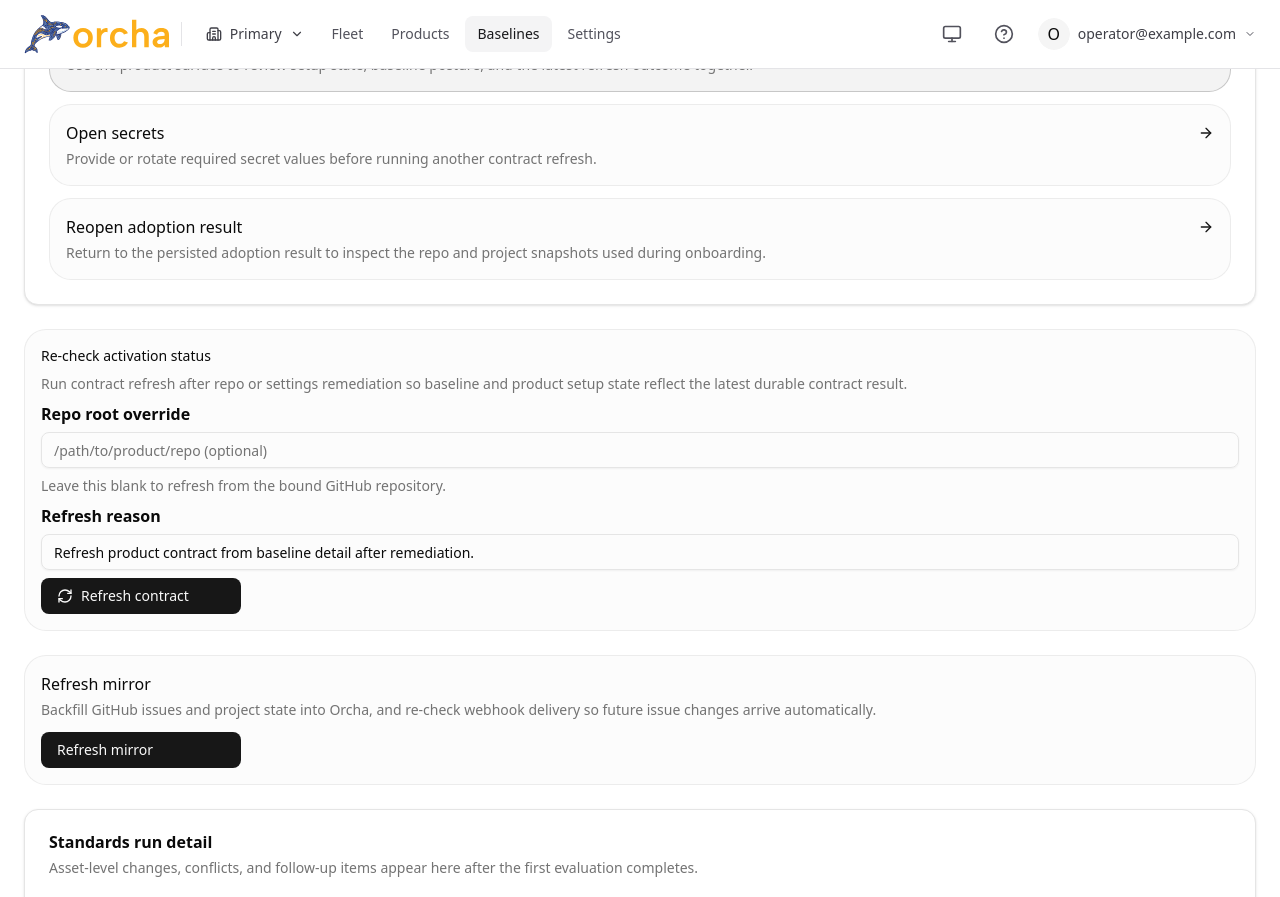
Test case: App › keeps setup blockers separate from managed asset drift on baseline detail and reflects refresh remediation
The image size is (1280, 897).
(page scrolled)
expect the text "Open product blockers" is shown: met, box x1=66 y1=28 x2=238 y2=50
expect the text "Open secrets" is shown: met, box x1=66 y1=122 x2=164 y2=144
Type "/tmp/atlas" into the field labelled "Repo root override" at (640, 450), box x1=41 y1=432 x2=1239 y2=468
(page scrolled)
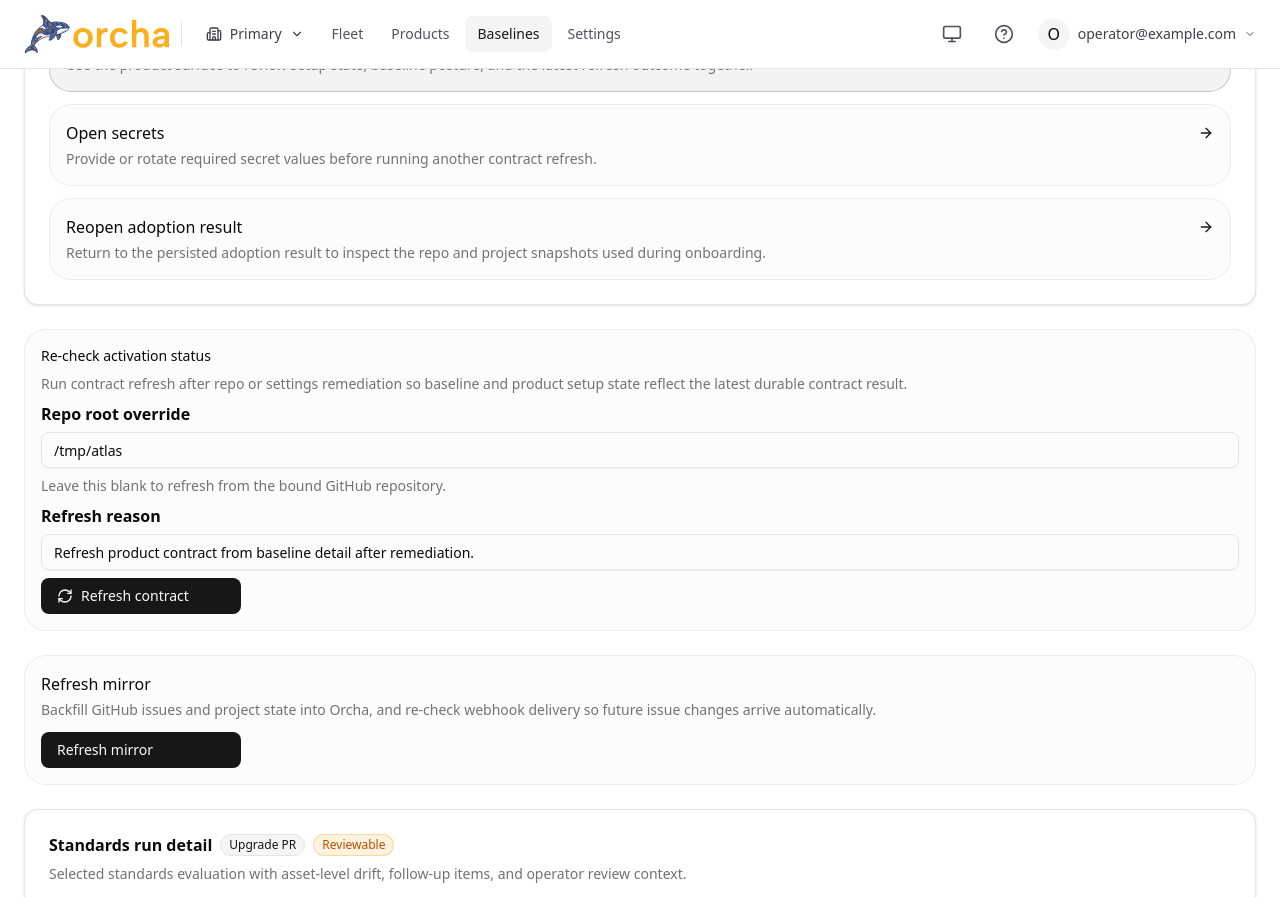
Click the button "Refresh contract" at (141, 596), box x1=41 y1=578 x2=241 y2=614
(page scrolled)
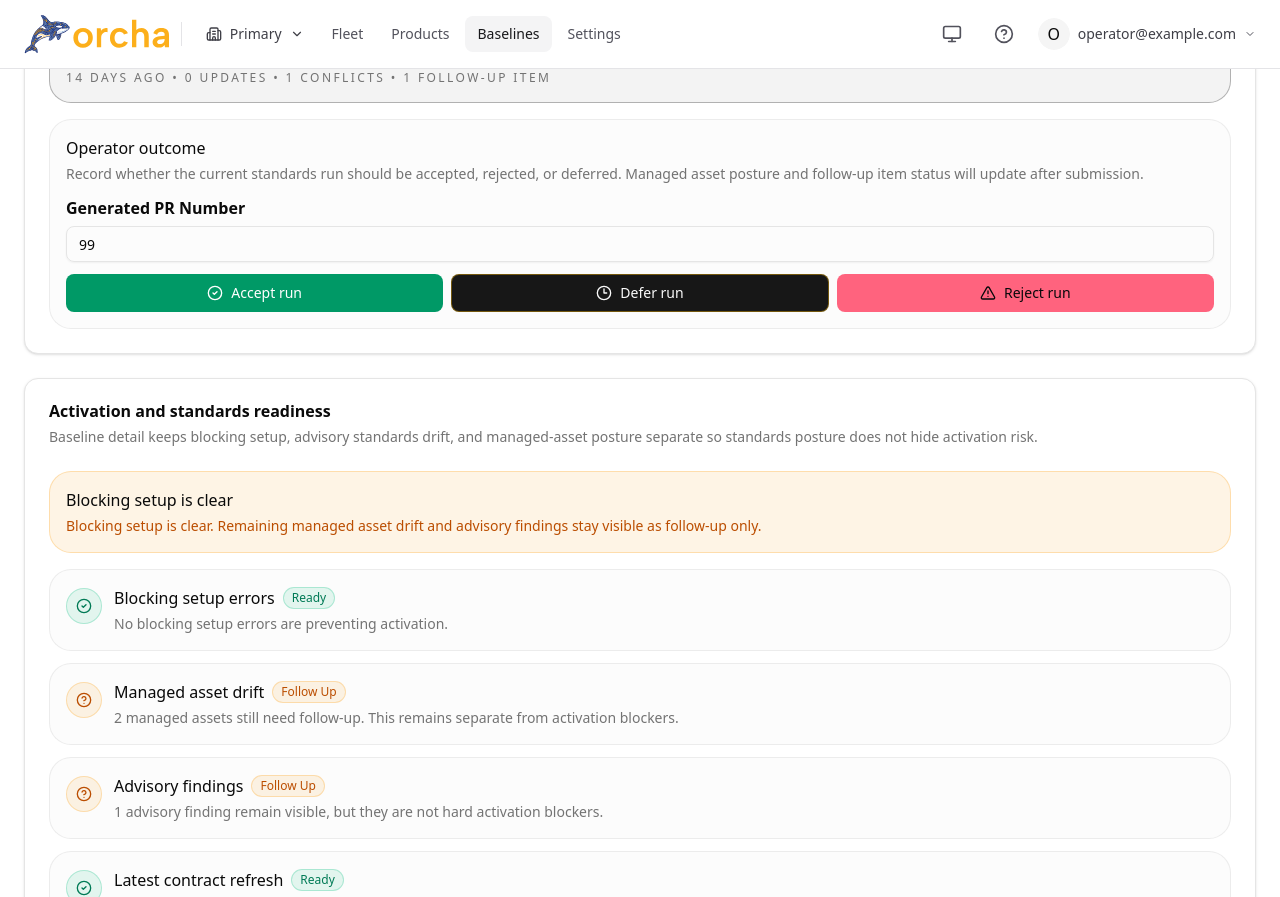
expect the text "Blocking setup is clear" is shown: met, box x1=66 y1=489 x2=233 y2=511
expect the text "No blocking setup errors are preventing activation." is shown: met, box x1=114 y1=614 x2=448 y2=634
